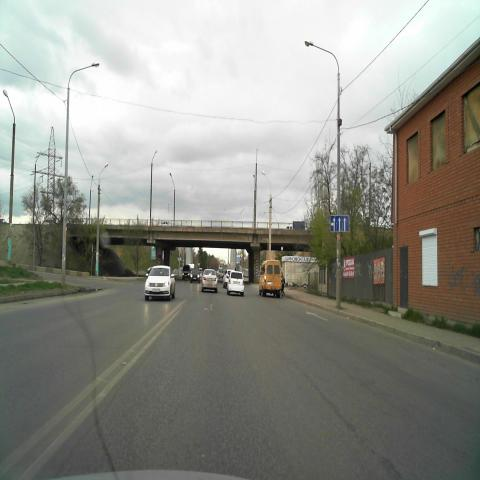5_15_1: (330, 215, 350, 232)
